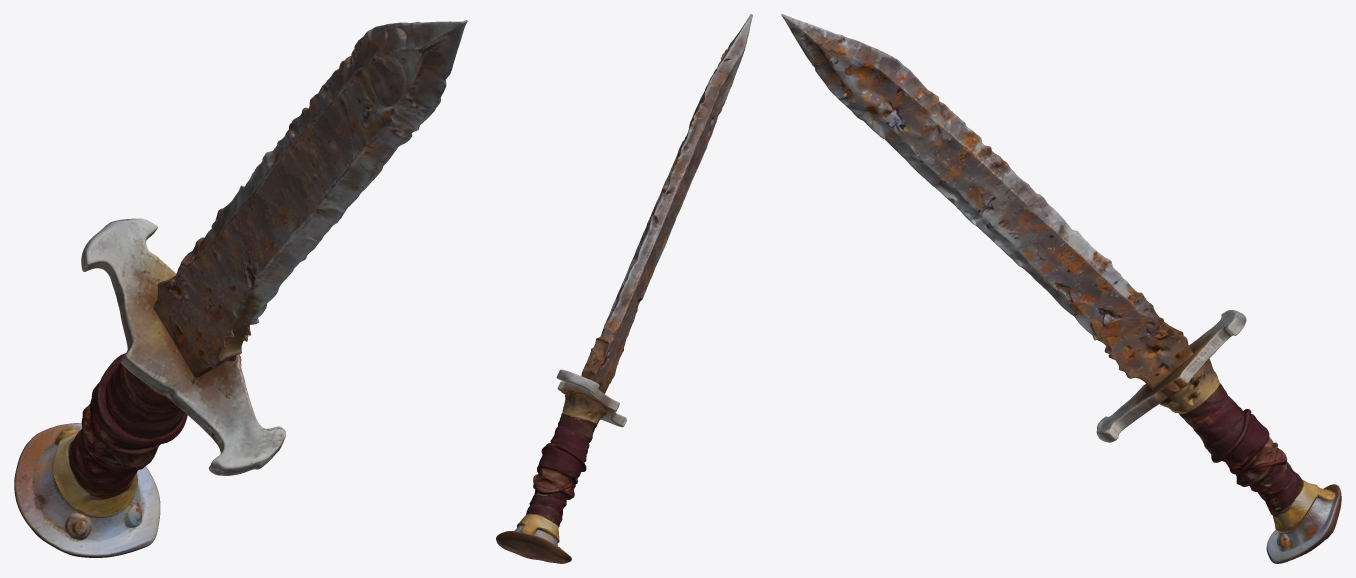
The picture shows the model from 3 angles, left to right: view 1: azimuth 30°, elevation 25°; view 2: azimuth 150°, elevation 25°; view 3: azimuth 270°, elevation 25°; orthographic projection. The views are drawn at different scales.
Visible parts, largest first — view 1: tripo_node_d1c92bae-1e90-47f7-aaf6-a4bed4b3d660; view 2: tripo_node_d1c92bae-1e90-47f7-aaf6-a4bed4b3d660; view 3: tripo_node_d1c92bae-1e90-47f7-aaf6-a4bed4b3d660.
Boxes of the visible parts, box(x1,y1,x2,y2) form: tripo_node_d1c92bae-1e90-47f7-aaf6-a4bed4b3d660: box(14, 20, 467, 557); tripo_node_d1c92bae-1e90-47f7-aaf6-a4bed4b3d660: box(496, 14, 752, 563); tripo_node_d1c92bae-1e90-47f7-aaf6-a4bed4b3d660: box(781, 14, 1341, 563).
Bounding box in the file's own units: 0.1741 × 1 × 0.9585.
Materials: 1 (1 with a texture image).
